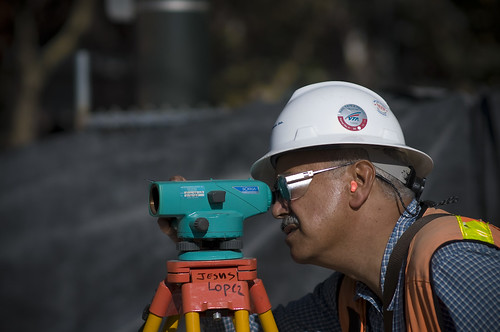person hardhat: (150, 79, 500, 332)
